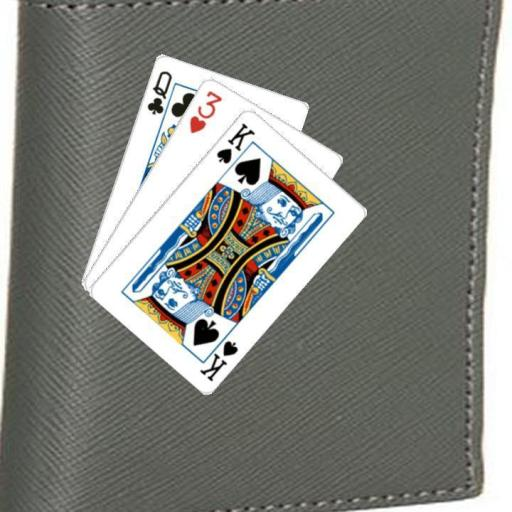card-corner: (196, 328, 240, 382), (212, 119, 256, 165), (186, 87, 224, 135), (144, 67, 174, 116)
